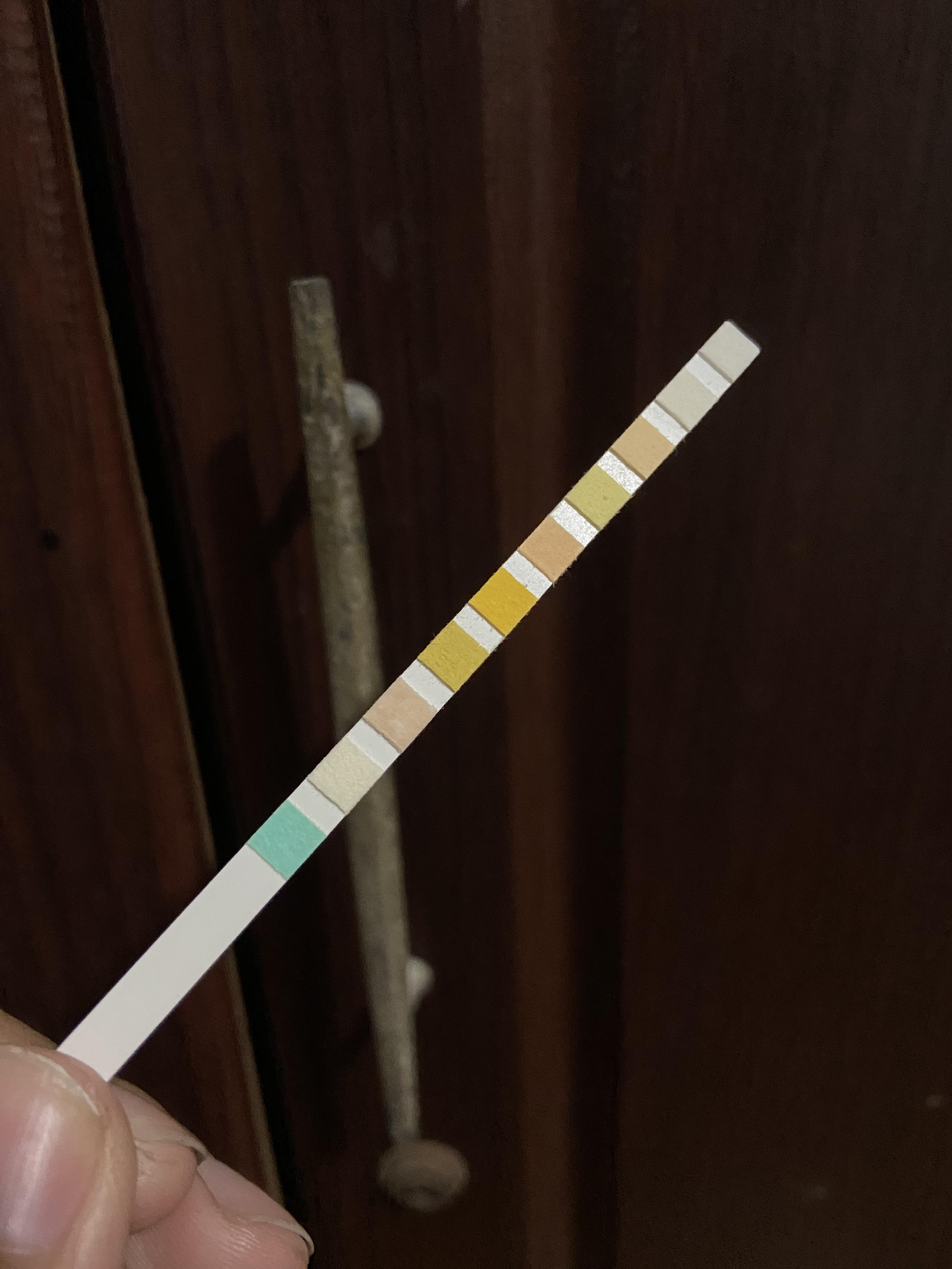Bilirubin: (328, 754, 364, 796)
Blood: (487, 583, 518, 620)
Glucose: (268, 817, 305, 861)
Ketone: (384, 693, 416, 735)
Leukocytes: (715, 334, 743, 371)
Nitrite: (672, 380, 701, 417)
Protein: (584, 477, 614, 514)
SpGravity: (438, 636, 468, 678)
Urobilinogen: (626, 430, 658, 465)
pH: (536, 529, 565, 569)
strip: (65, 320, 763, 1080)
